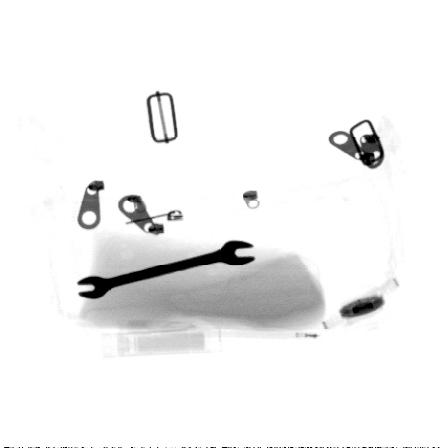Wrench: (74, 239, 257, 301)
